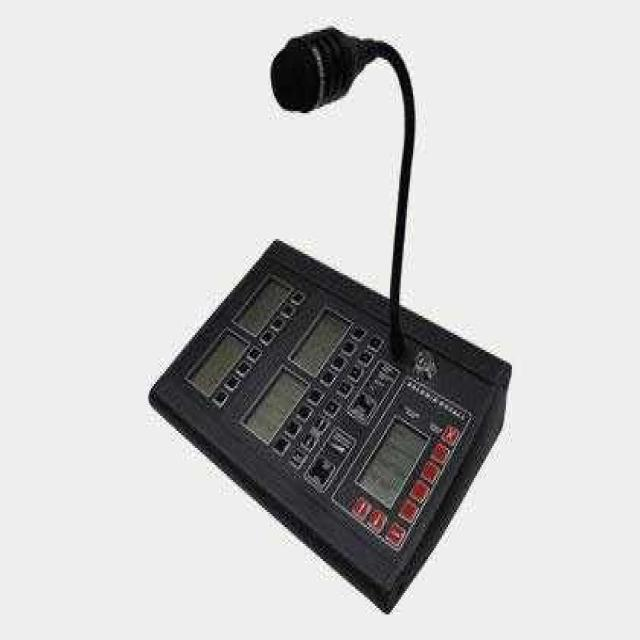microphone: (268, 17, 380, 121)
